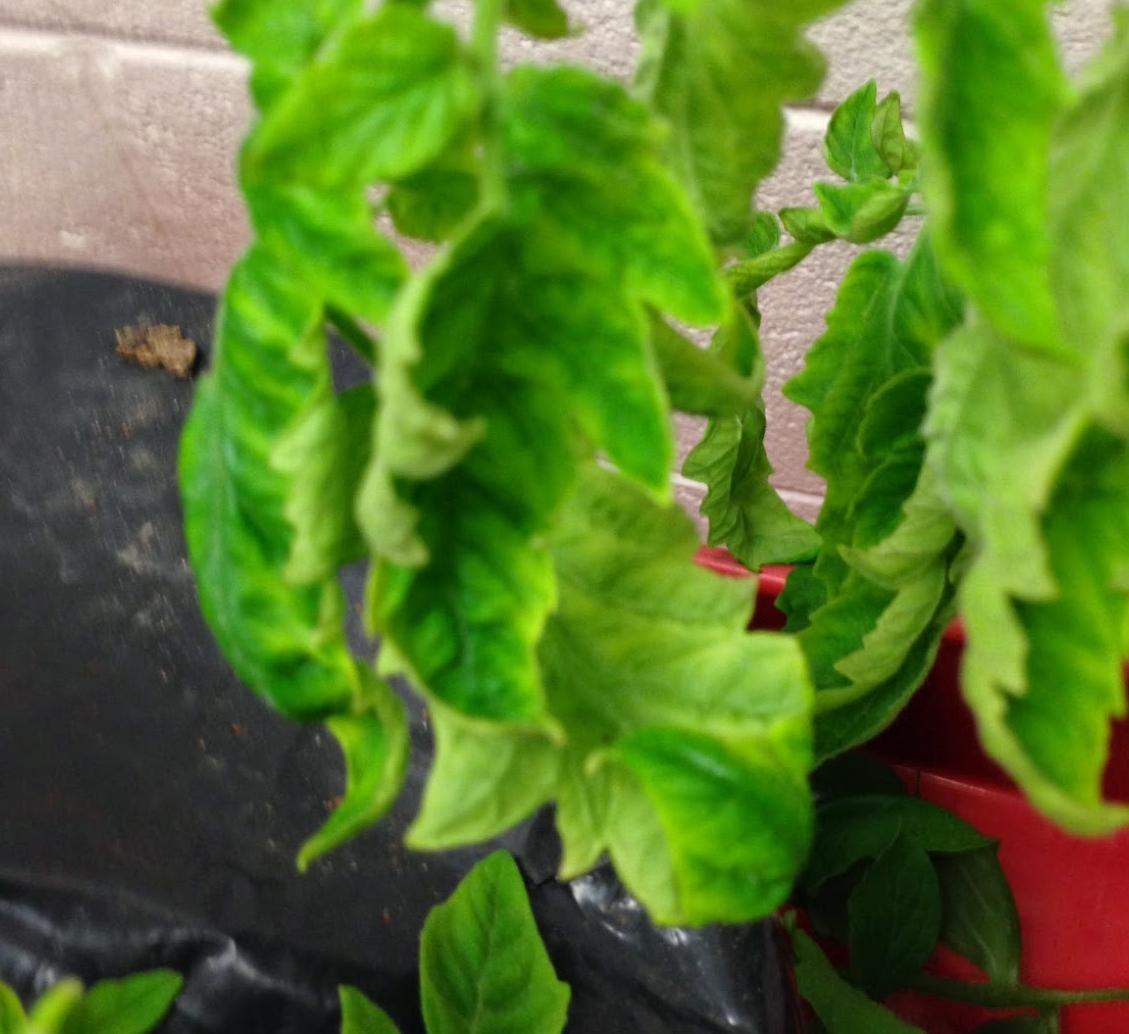Tomato leaf yellow virus: (345, 11, 688, 773), (100, 0, 360, 738), (877, 0, 1075, 376), (406, 858, 564, 1034)
